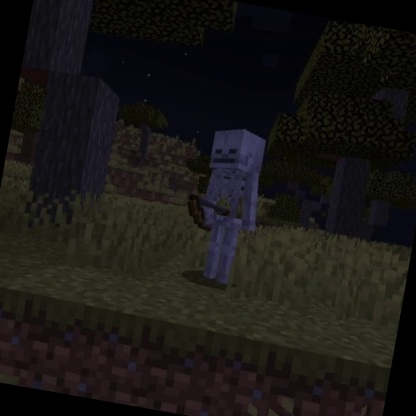skeleton: (171, 118, 278, 293)
